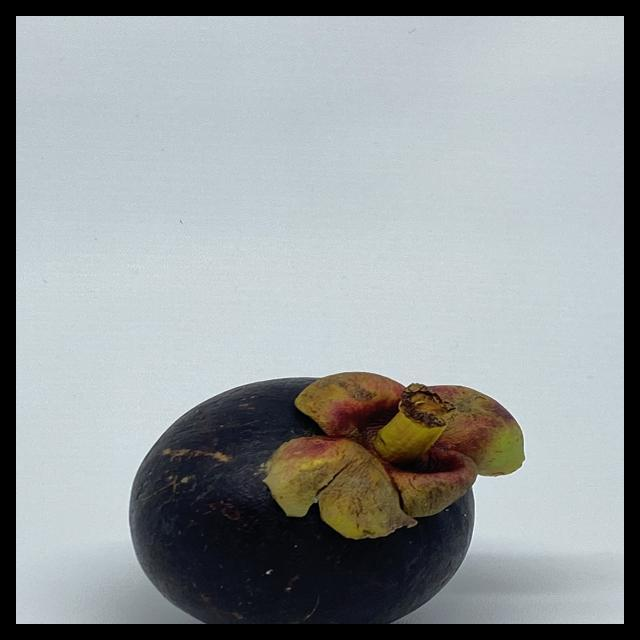mangosteen: (126, 308, 530, 621)
